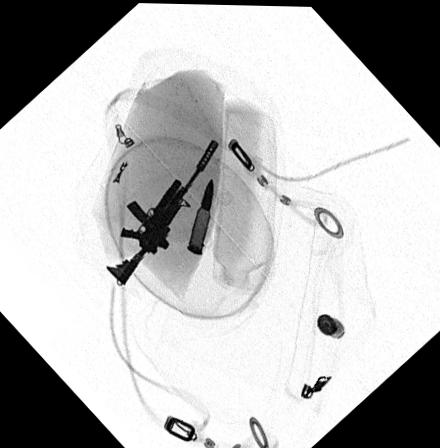Bullet: (185, 177, 213, 254)
Gun: (104, 138, 218, 287)
